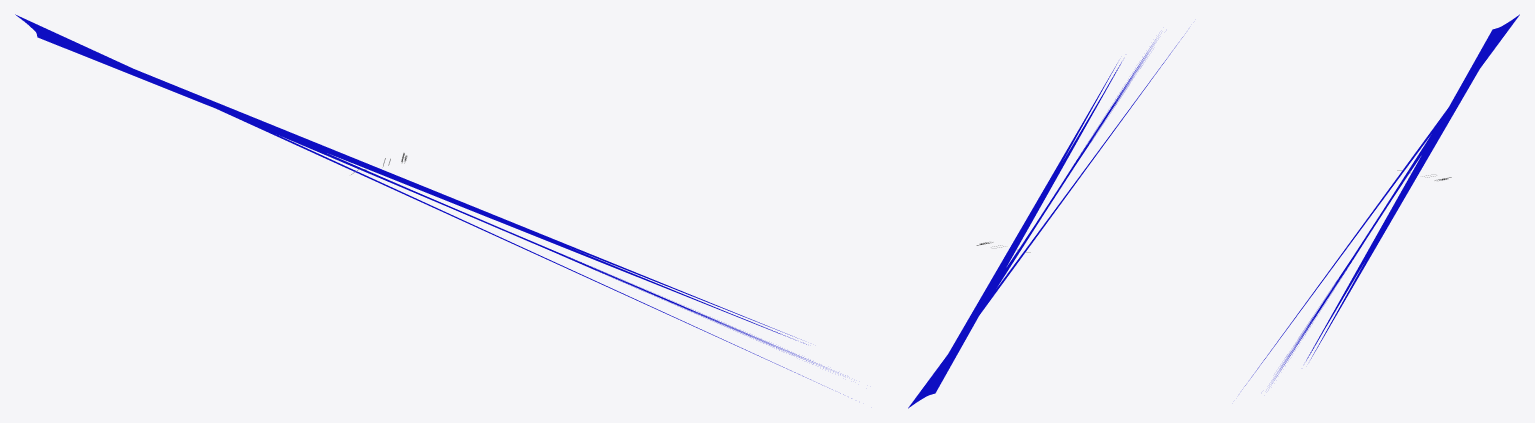
The picture shows the model from 3 angles, left to right: view 1: azimuth 30°, elevation 25°; view 2: azimuth 150°, elevation 25°; view 3: azimuth 330°, elevation 25°; orthographic projection. The views are drawn at different scales.
Size of the model in its own units: 2009 by 3 by 8012.
